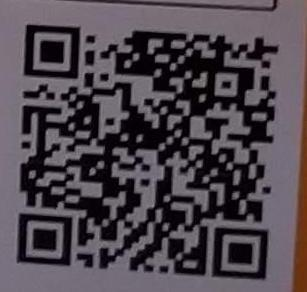qrcode: (17, 24, 281, 281)
